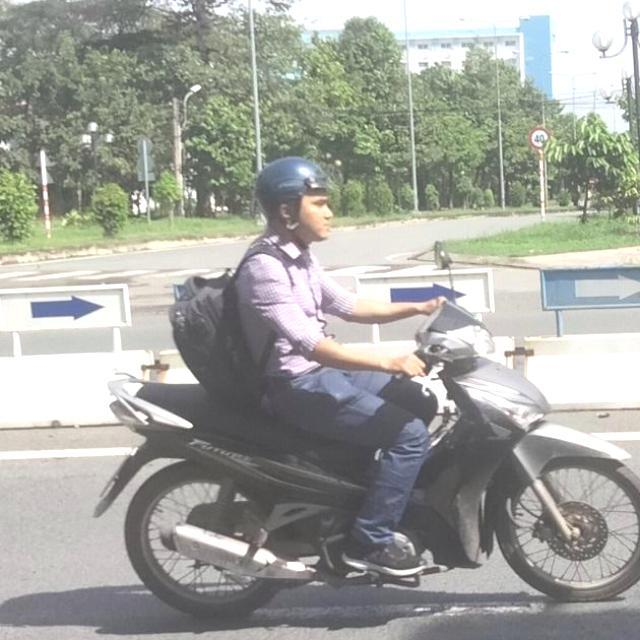Helmet: (254, 157, 336, 246)
